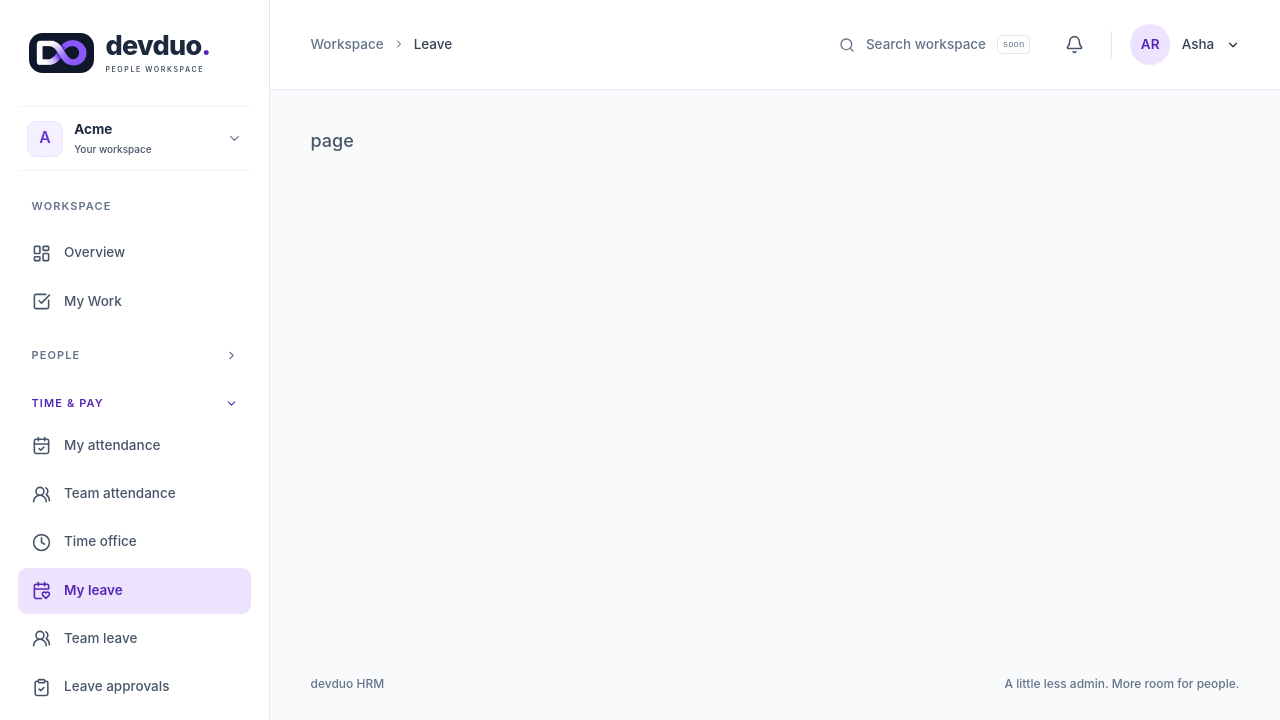
Scenario: works when browser storage is blocked
The image size is (1280, 720).
Click the button "PEOPLE" at [134, 355], box [18,340,251,370]
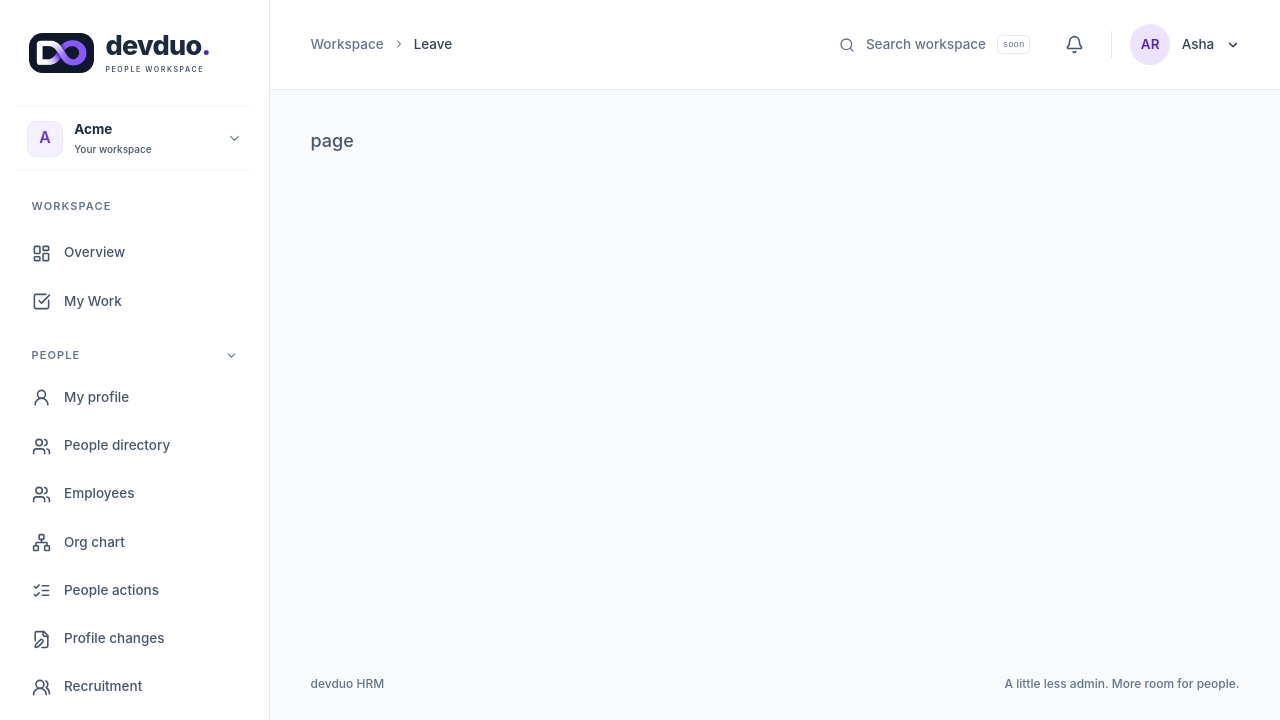
Result: the link "Employees" is shown at [32,485,134,504]
